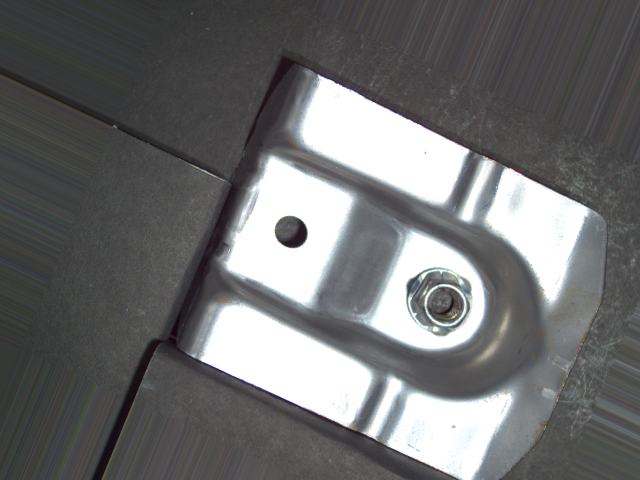good: (404, 265, 477, 339)
